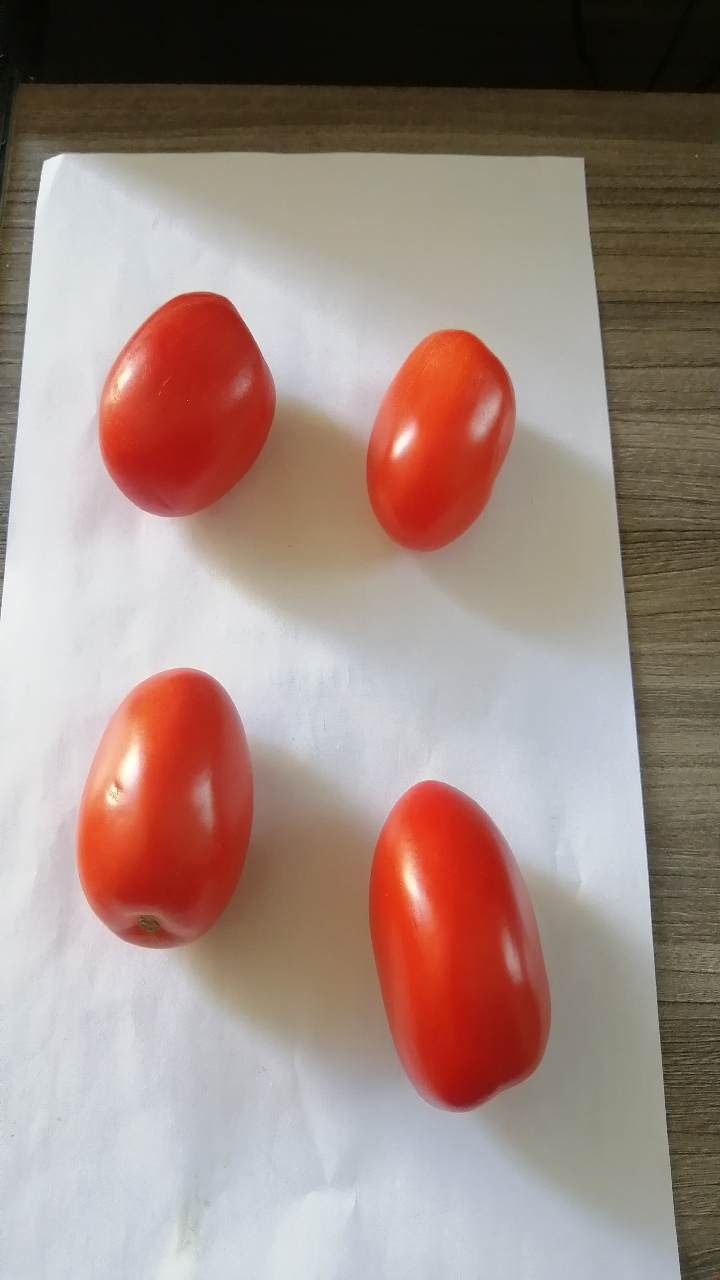tomateRojo: (344, 769, 561, 1125), (61, 648, 258, 963), (84, 263, 292, 542), (351, 300, 526, 589)
